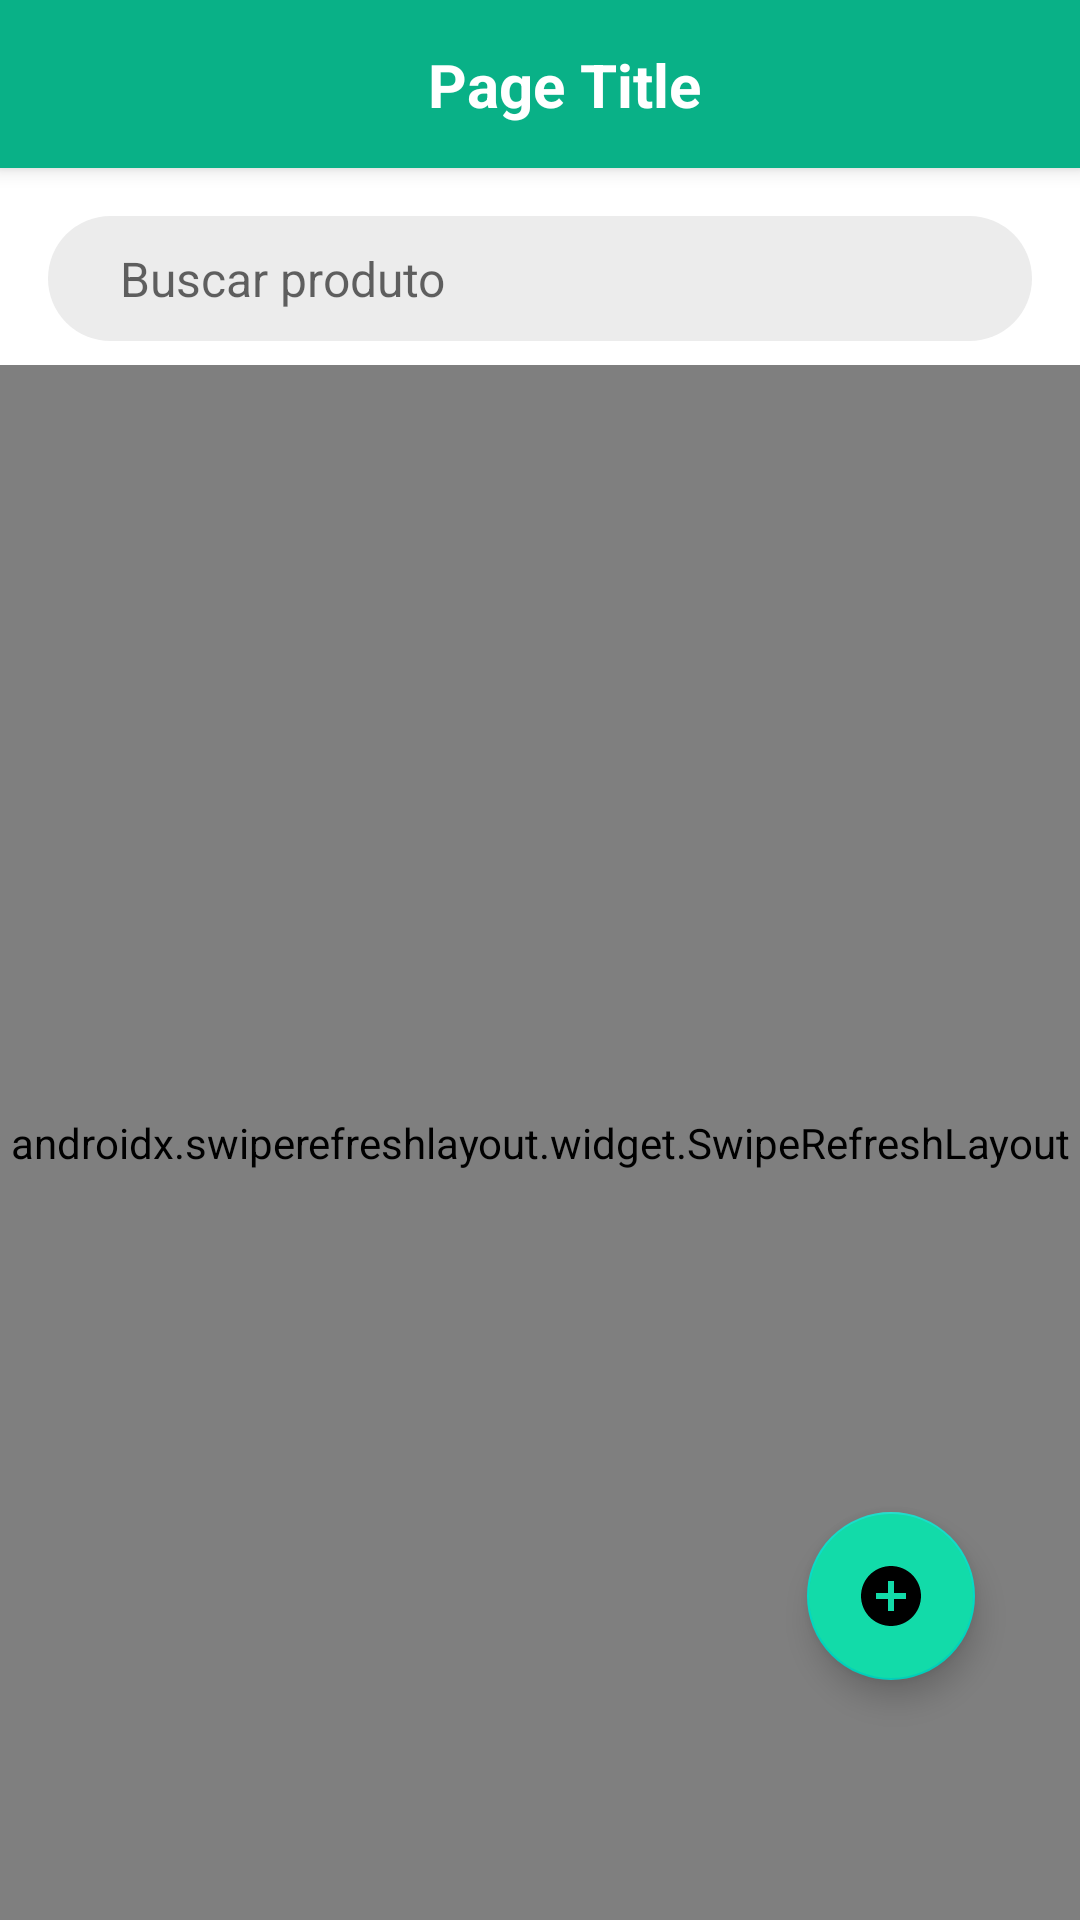

Icons on this 1080w x 1920h Android screen, each with the point to tap as [x,y]:
add circle: [891,1596]
